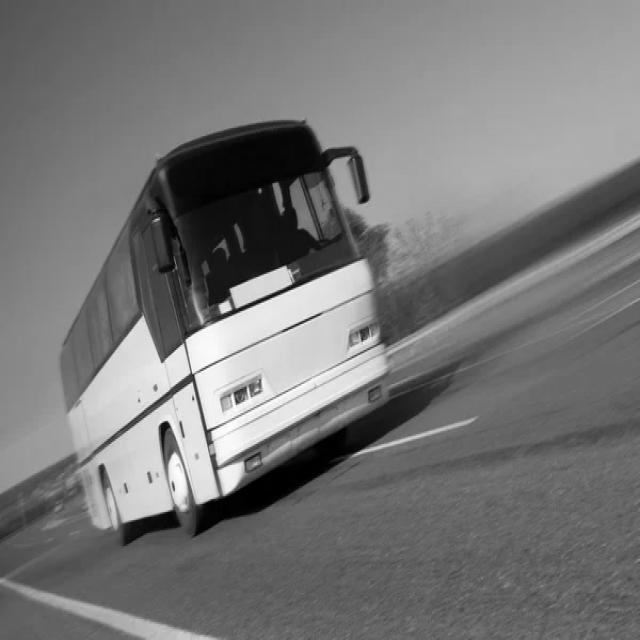Bus: (60, 121, 389, 542)
